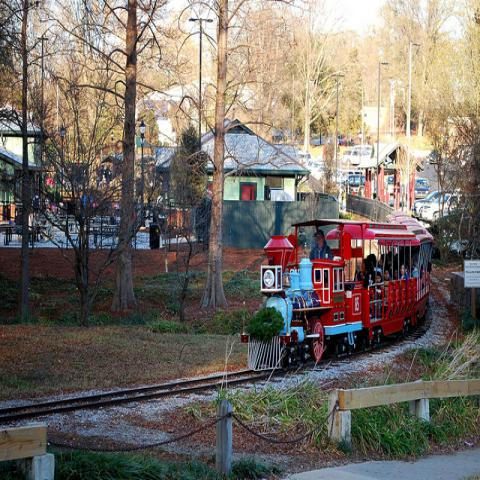car: (422, 194, 462, 221), (412, 190, 442, 219), (337, 172, 365, 193), (343, 150, 370, 166), (414, 177, 432, 199), (385, 175, 394, 194), (431, 150, 440, 164)
